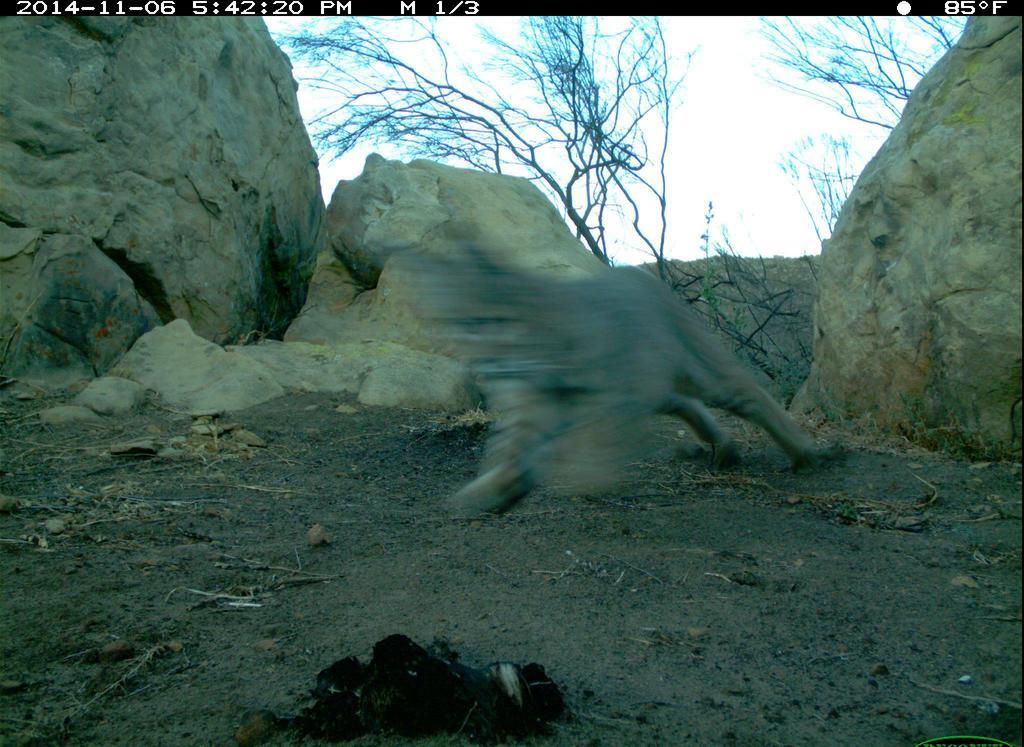bobcat: (373, 205, 840, 529)
